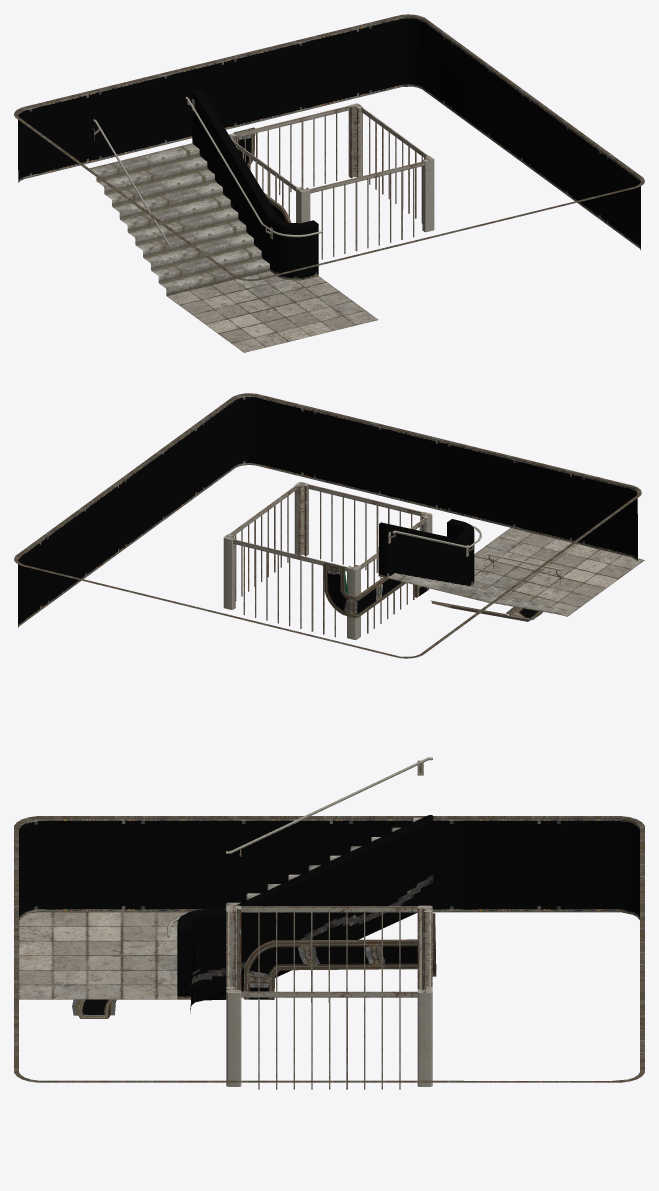
File: link-stairwell-a-150.glb
3 renders of one model, top to bottom at view 1: azimuth 30°, elevation 25°; view 2: azimuth 150°, elevation 25°; view 3: azimuth 270°, elevation 25°, orthographic. The views are drawn at different scales.
Parts seen in each view (by area): view 1: stairwell_150_LOD0; view 2: stairwell_150_LOD0; view 3: stairwell_150_LOD0.
Boxes of the visible parts, x1=… form: stairwell_150_LOD0: x1=14, y1=14, x2=644, y2=352; stairwell_150_LOD0: x1=14, y1=393, x2=644, y2=658; stairwell_150_LOD0: x1=14, y1=757, x2=644, y2=1089.
Size of the model in its own units: 9.12 by 2.94 by 9.12.
Materials: 5 (5 with a texture image).
